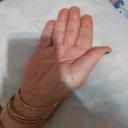OpenPalm: (18, 5, 115, 100)
